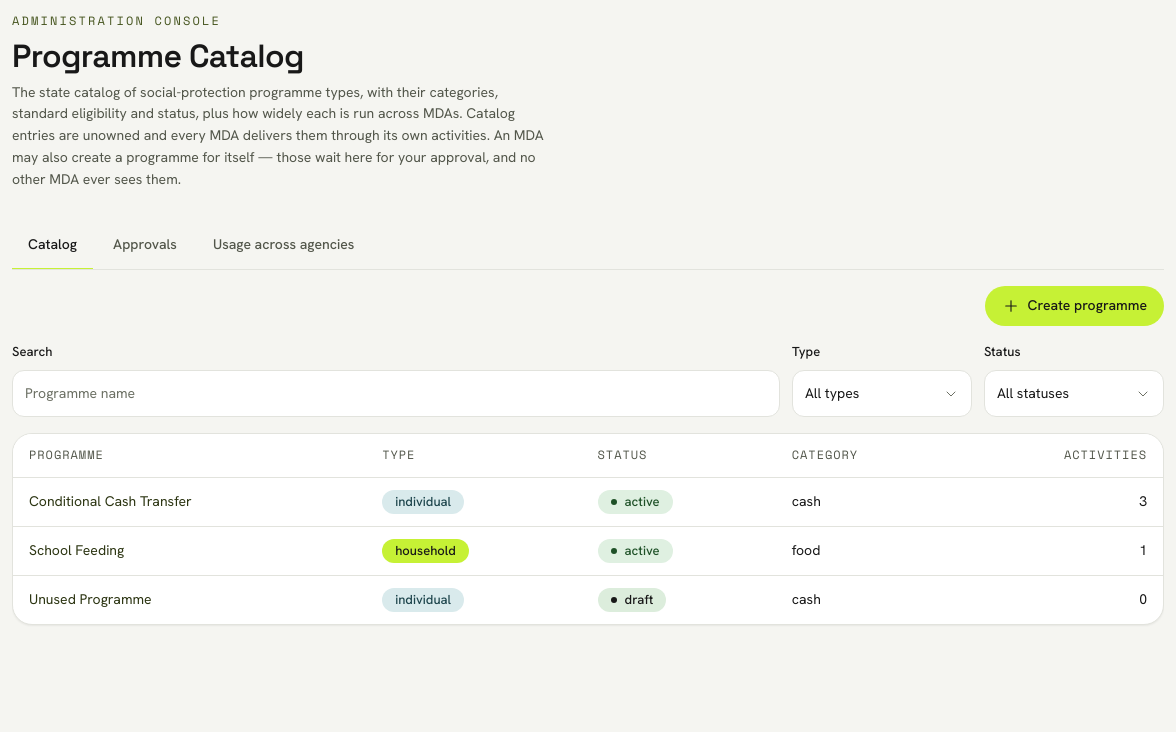
Test: Admin console — Programme Catalog (composes Phase 4 / v1.3) › reports cross-MDA usage per catalog programme
Expected: the link "Conditional Cash Transfer" is shown, [29, 492, 192, 510]
Click the tab "Usage across agencies": (284,246) [197, 222, 370, 270]
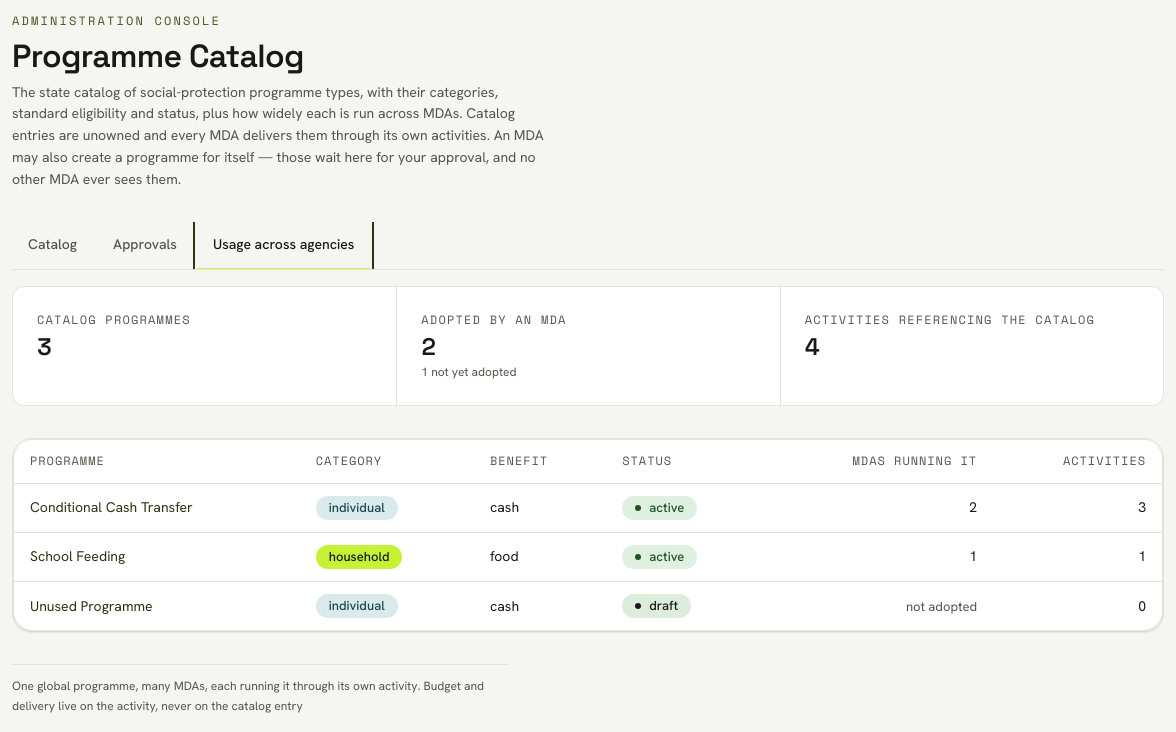
Expected: the column heading "MDAs running it" is shown, [763, 440, 993, 483]
Expected: the text "2" is shown, [763, 484, 993, 533]
Expected: the text "not adopted" is shown, [906, 598, 977, 614]
